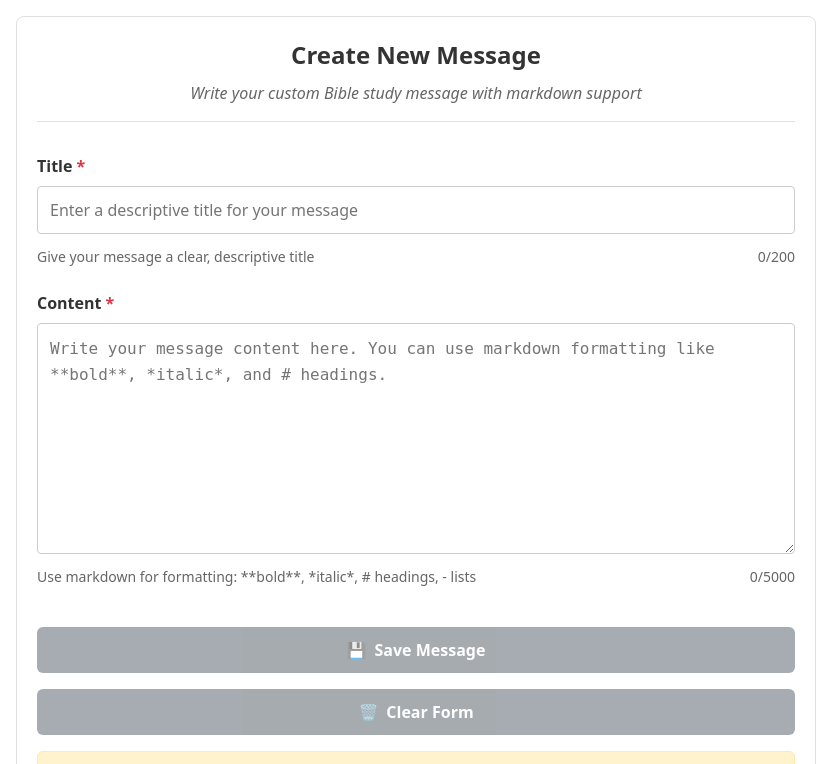
Test case: MessageEditor Component › Character Counters › updates content character counter as user types
Type "Hello world" into the text box labelled "Content *" at (416, 438), box left=37, top=323, right=795, bottom=554
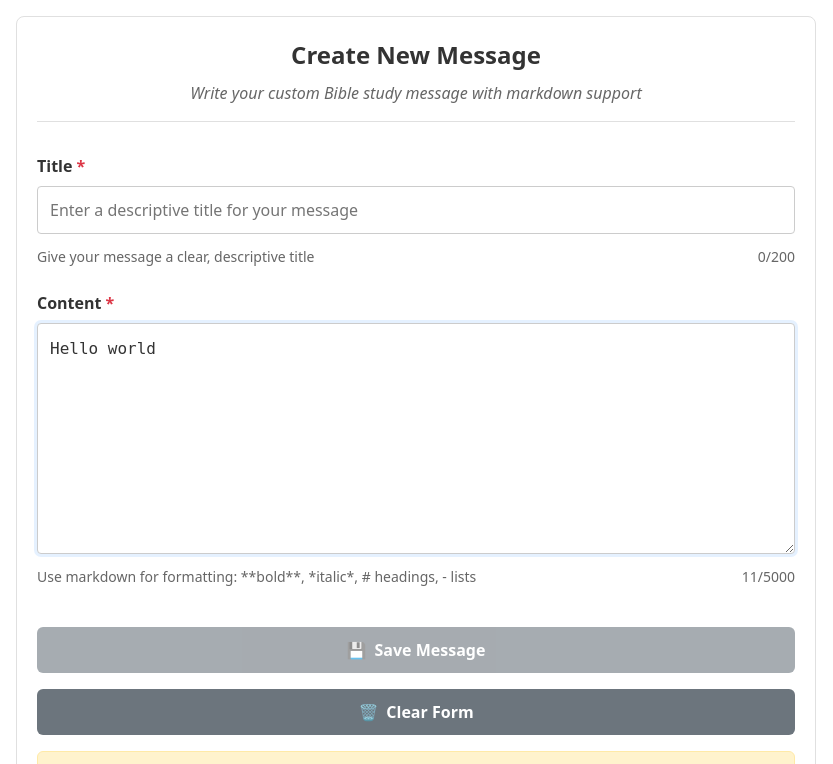
expect the text "11/5000" is shown: met, box left=742, top=566, right=795, bottom=587
